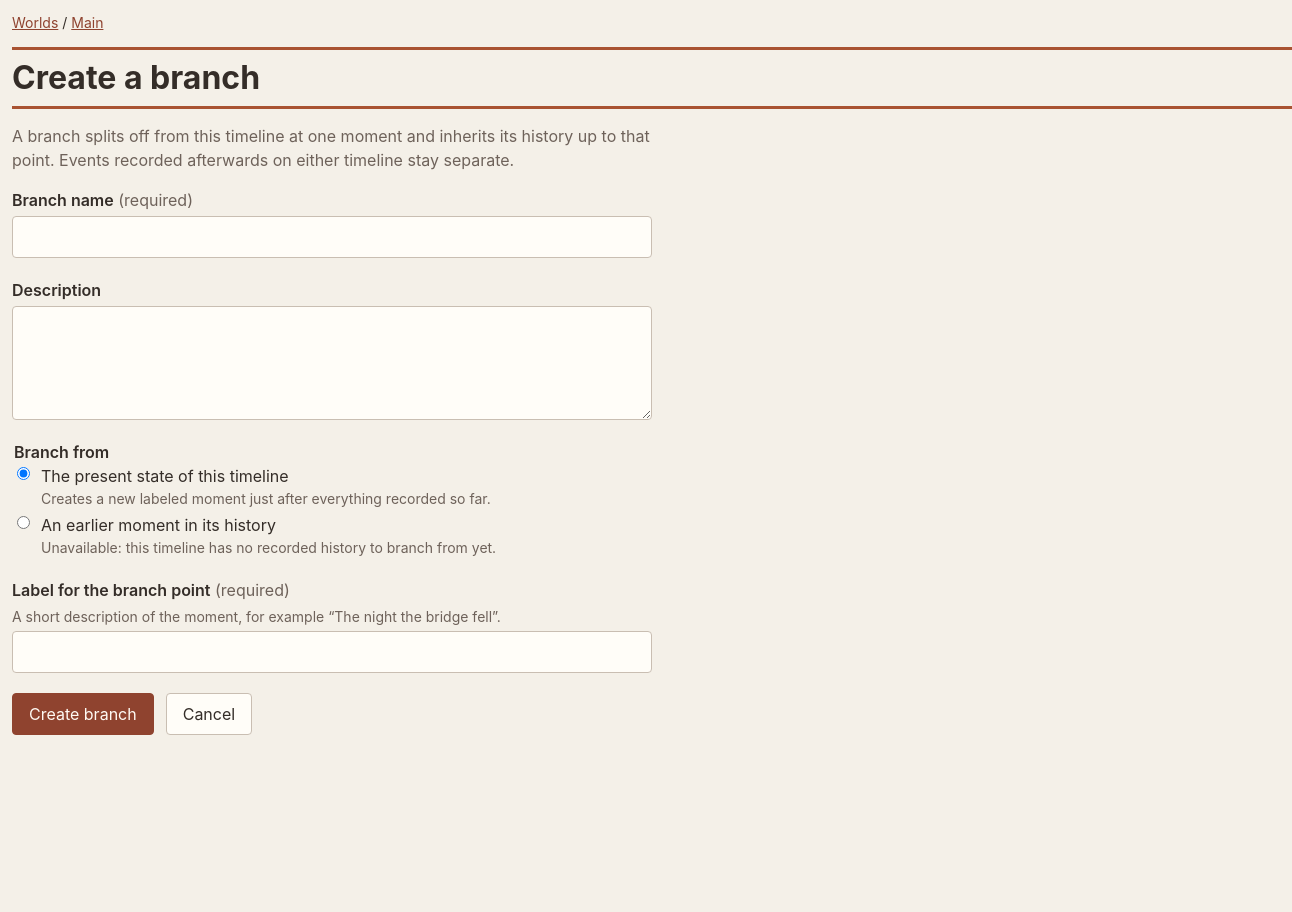
Test: CreateTimelineBranchPage › explains why only 'latest' is available when there is no history
Expected: the field labelled "Branch name (required)" is shown, [12,216,652,258]
Expected: the text "this timeline has no recorded history" is shown, [41,539,496,556]
What coordinates should you click on to do the following:
click the radio button labelled "An earlier moment in its history"
I would click on:
 (24, 522)
Its box is [17,516,30,529].
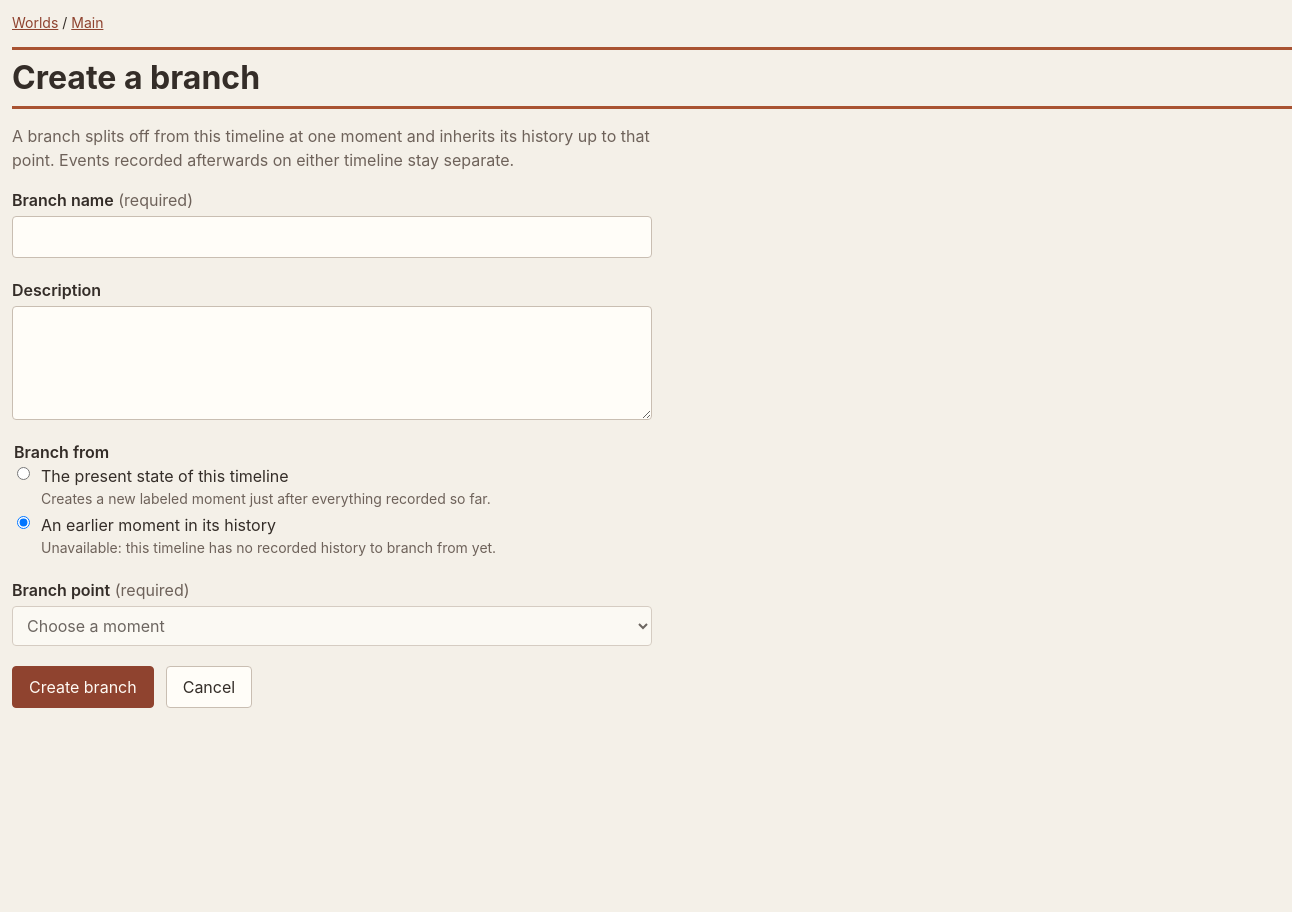
Expected: the dropdown labelled "Branch point (required)" is disabled, [12,606,652,646]
